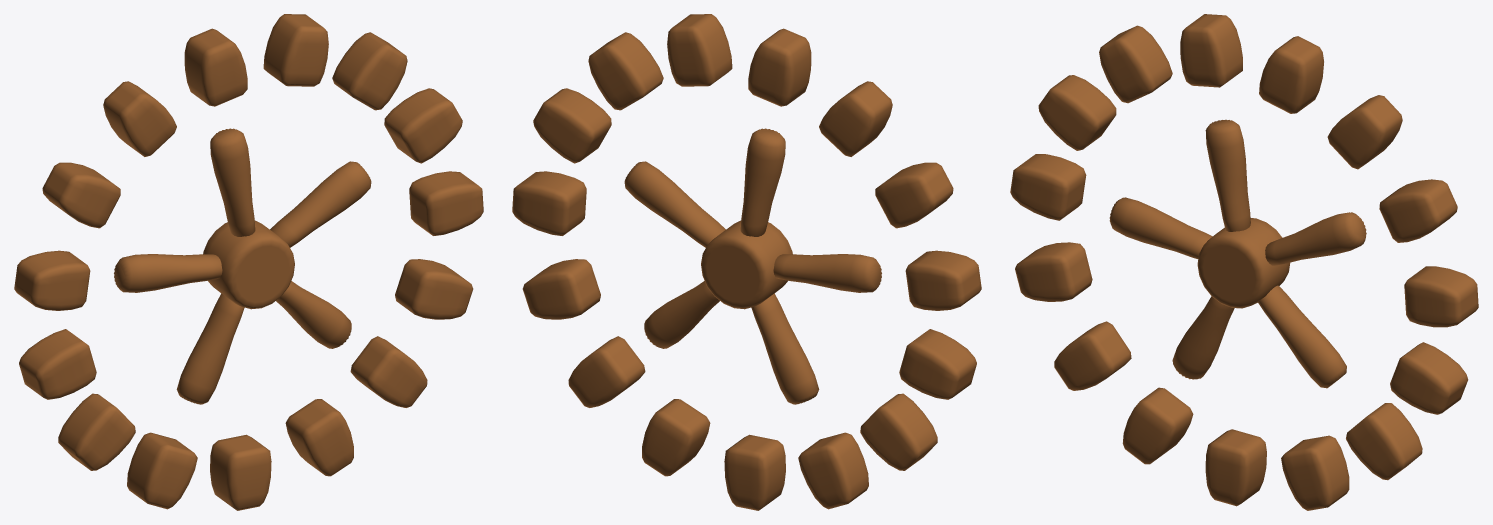
The model's file is GearBigInside.obj.
3 renders of one model, left to right at view 1: azimuth 30°, elevation 25°; view 2: azimuth 150°, elevation 25°; view 3: azimuth 330°, elevation 25°, orthographic.
Parts seen in each view (by area): view 1: WheelLargeTooth1 WheelLarge1 Gear1 IslandCloudFactory1 Archipela, WheelLarge1 Gear1 IslandCloudFactory1 ArchipelagoCloudFactory1 W; view 2: WheelLargeTooth1 WheelLarge1 Gear1 IslandCloudFactory1 Archipela, WheelLarge1 Gear1 IslandCloudFactory1 ArchipelagoCloudFactory1 W; view 3: WheelLargeTooth1 WheelLarge1 Gear1 IslandCloudFactory1 Archipela, WheelLarge1 Gear1 IslandCloudFactory1 ArchipelagoCloudFactory1 W.
Boxes of the visible parts, x1,y1,x2,y2 form: WheelLargeTooth1 WheelLarge1 Gear1 IslandCloudFactory1 Archipela: (14,14,483,510); WheelLarge1 Gear1 IslandCloudFactory1 ArchipelagoCloudFactory1 W: (114,128,371,404); WheelLargeTooth1 WheelLarge1 Gear1 IslandCloudFactory1 Archipela: (512,14,981,510); WheelLarge1 Gear1 IslandCloudFactory1 ArchipelagoCloudFactory1 W: (624,128,881,404); WheelLargeTooth1 WheelLarge1 Gear1 IslandCloudFactory1 Archipela: (1010,14,1478,510); WheelLarge1 Gear1 IslandCloudFactory1 ArchipelagoCloudFactory1 W: (1109,119,1366,388).
Size of the model in its own units: 52.19 by 52.13 by 5.8.
